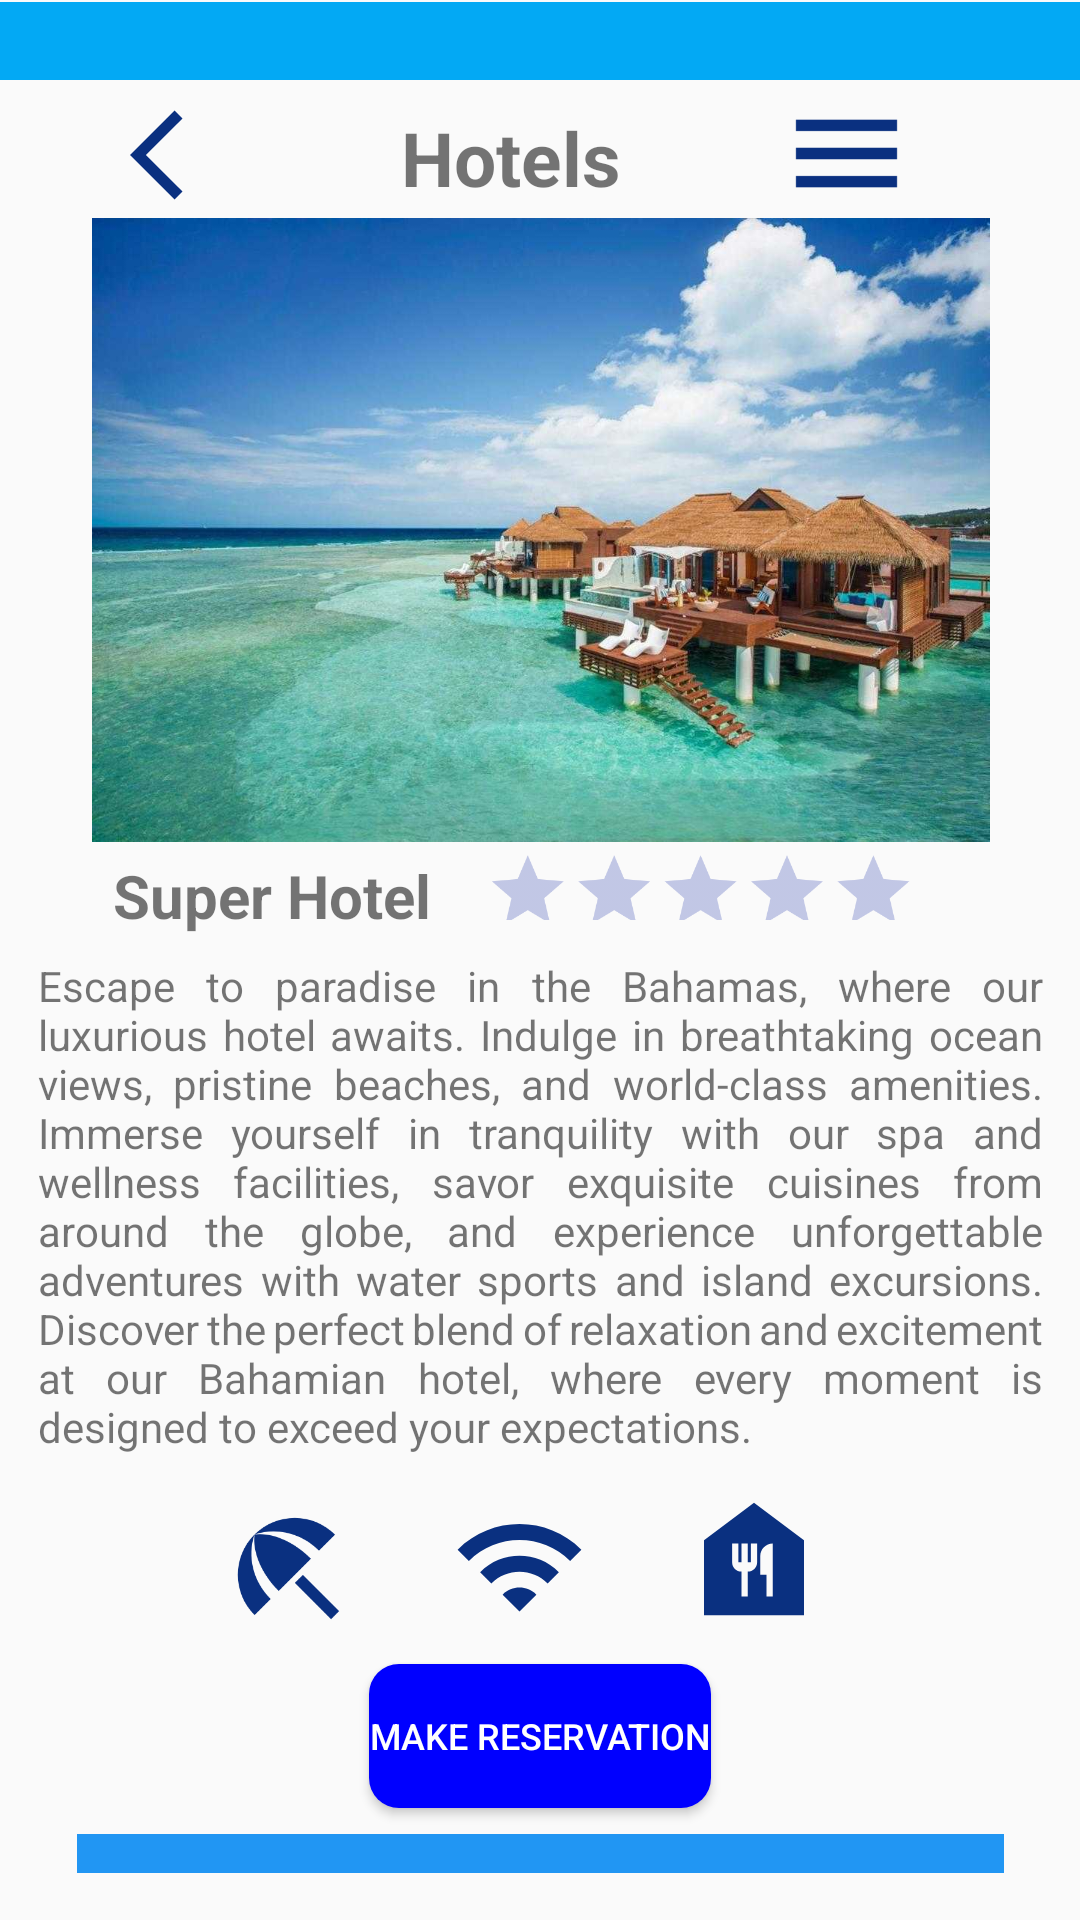

Icon click points for this 1080w x 1920h phone screenshot, format (x=x, y=y):
arrow back: (x=156, y=155)
beach umbrellas: (x=288, y=1568)
food: (x=754, y=1559)
menu: (x=846, y=153)
wifi: (x=519, y=1568)
